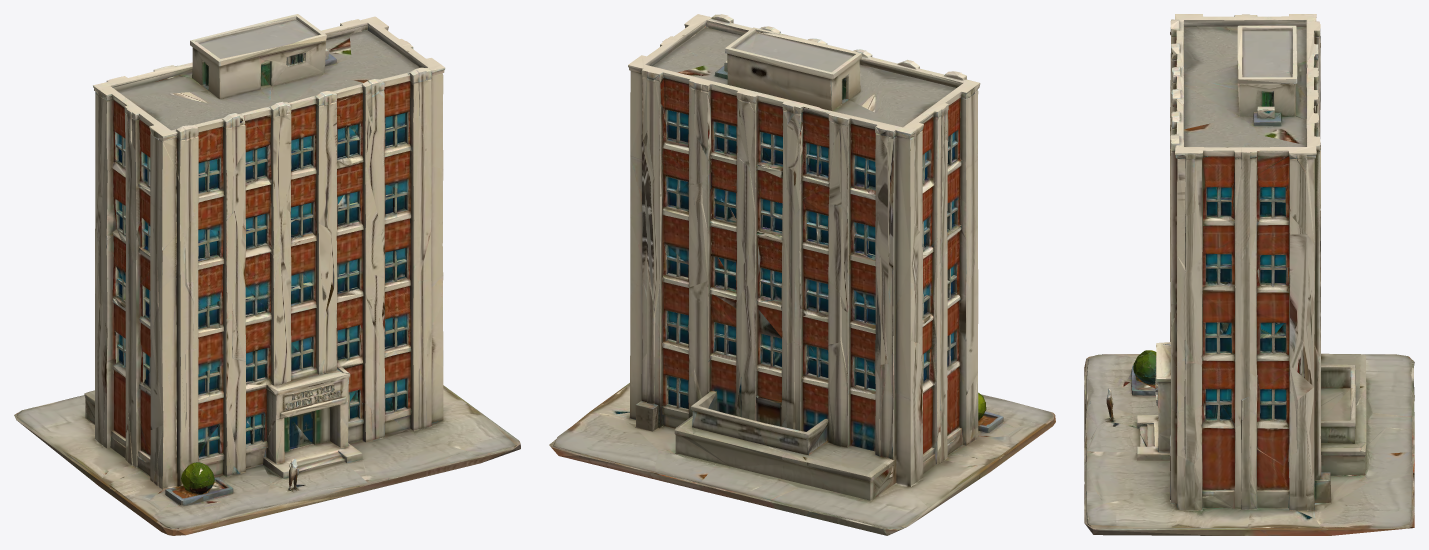
File: town_house_c.glb
3 views of the same model, side by side, from view 1: azimuth 30°, elevation 25°; view 2: azimuth 150°, elevation 25°; view 3: azimuth 270°, elevation 25° (orthographic).
Visible parts, largest first — view 1: normalize; view 2: normalize; view 3: normalize.
Part boxes in pixels (x1=…): normalize: x1=14, y1=14, x2=520, y2=535; normalize: x1=549, y1=14, x2=1055, y2=535; normalize: x1=1084, y1=14, x2=1414, y2=535.
Size of the model in its own units: 1 by 1.05 by 0.7939.
1 material, 1 textured.
